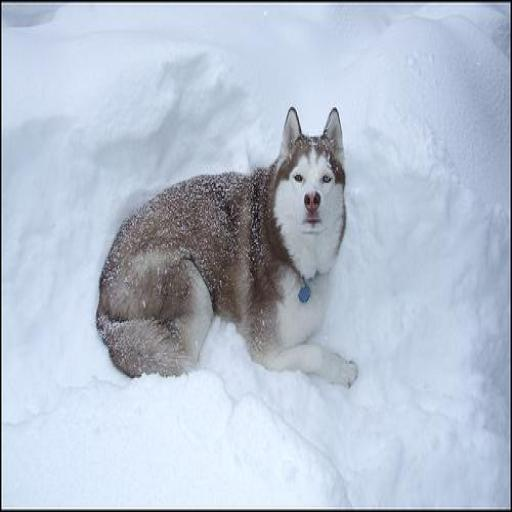dog_face: (279, 106, 348, 248)
